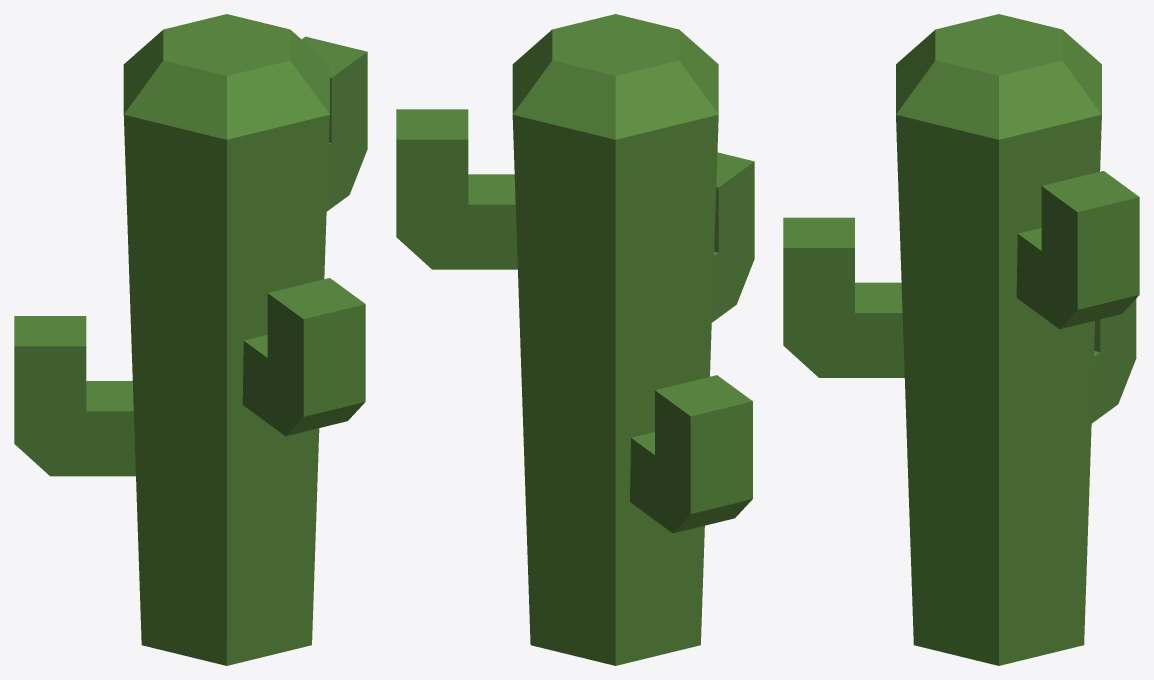
Rendered from ds_cactus_b.glb.
3 renders of one model, left to right at view 1: azimuth 30°, elevation 25°; view 2: azimuth 150°, elevation 25°; view 3: azimuth 270°, elevation 25°, orthographic.
Parts seen in each view (by area): view 1: ds_cactus_b; view 2: ds_cactus_b; view 3: ds_cactus_b.
Part boxes in pixels (x1=…): ds_cactus_b: x1=14, y1=14, x2=367, y2=665; ds_cactus_b: x1=396, y1=14, x2=754, y2=665; ds_cactus_b: x1=783, y1=14, x2=1139, y2=665.
Size of the model in its own units: 0.9616 by 1.5 by 0.8364.
